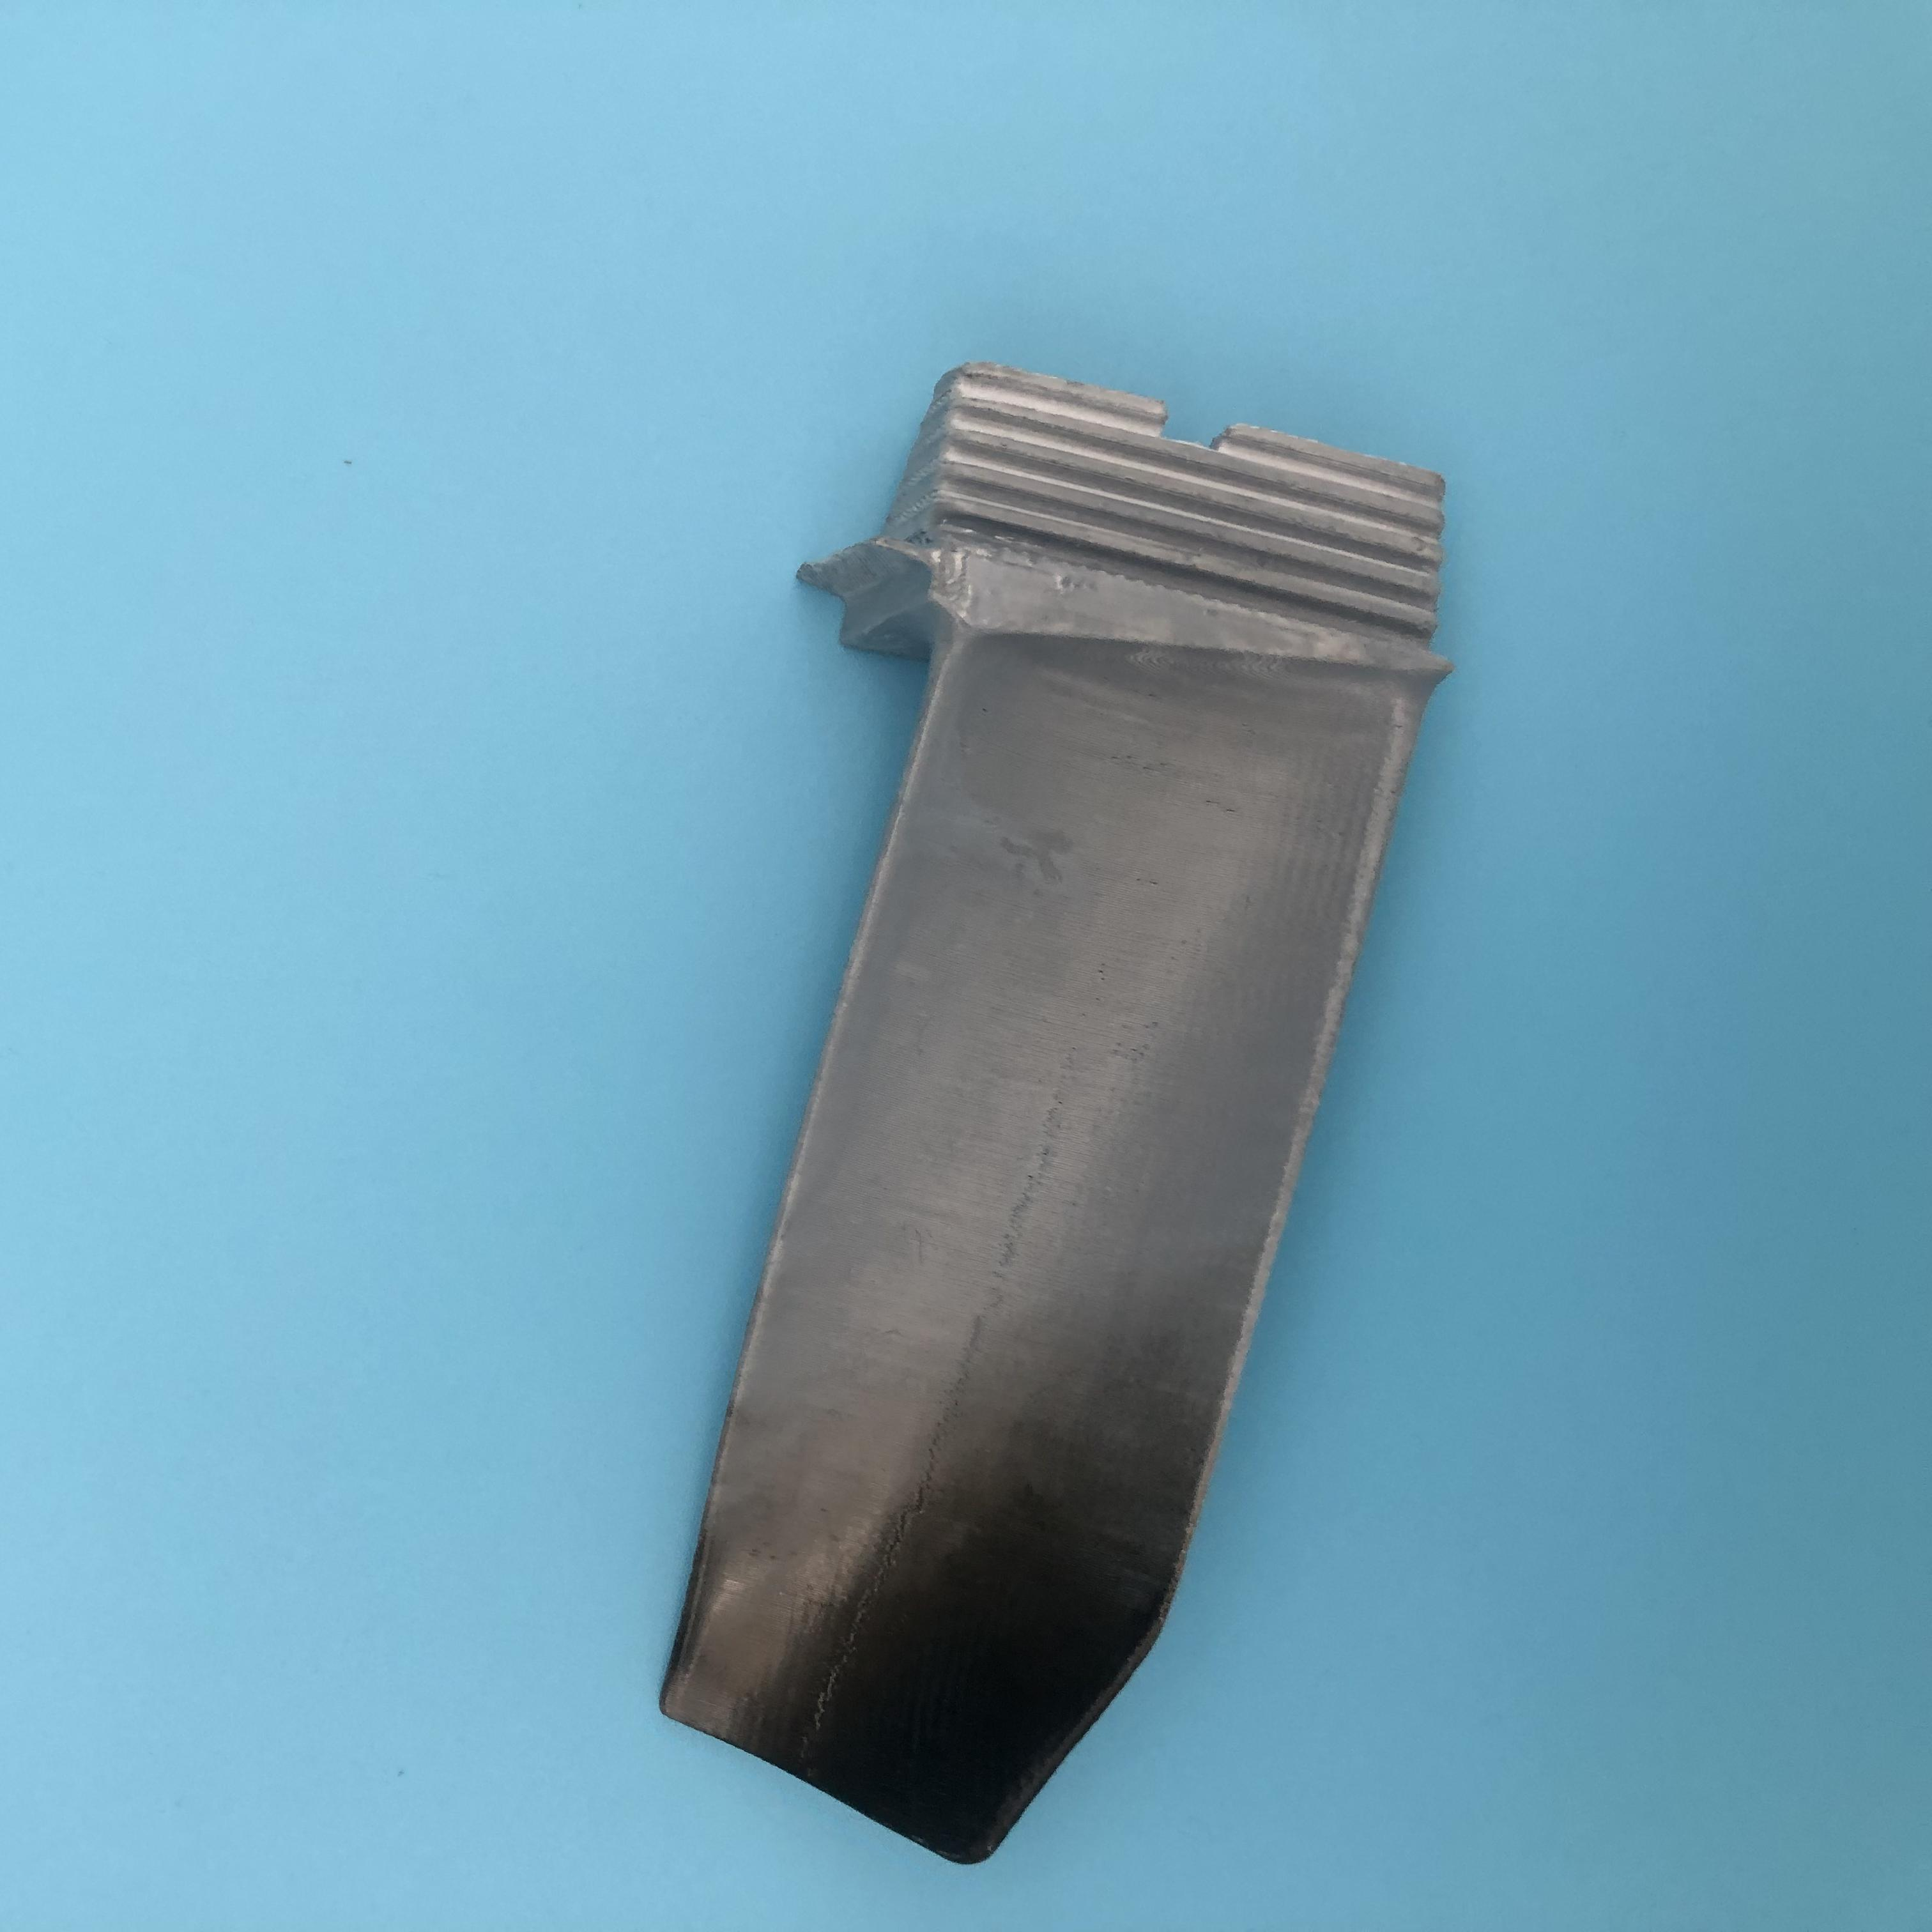ablation: (734, 1338, 1161, 1801)
